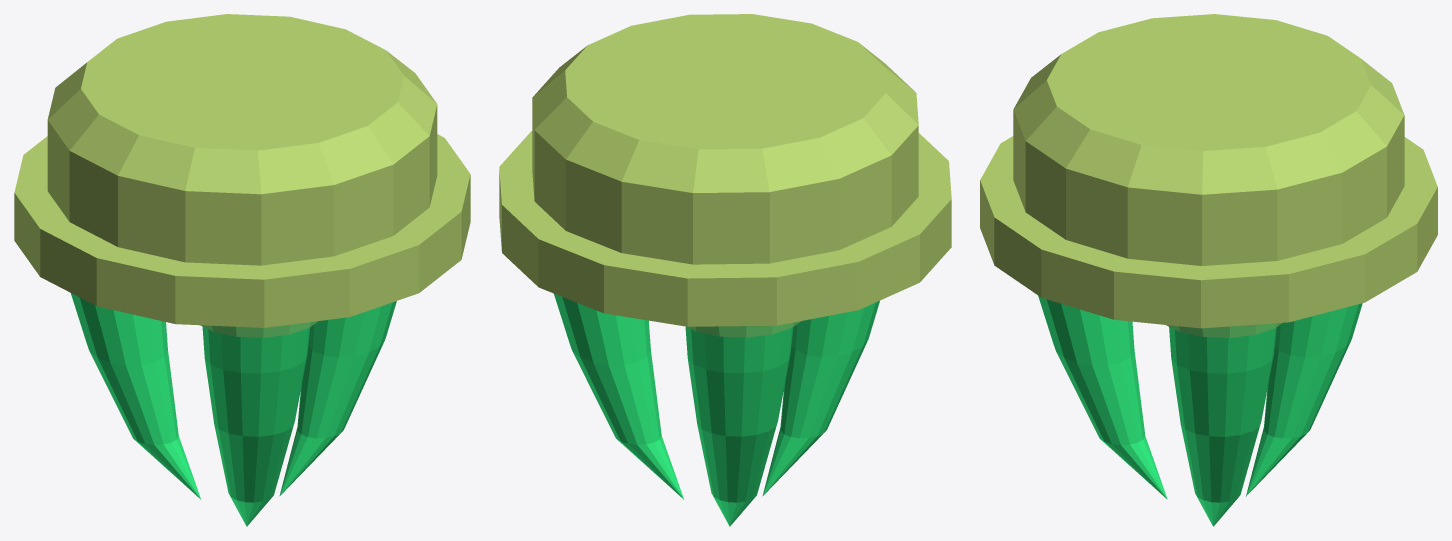
File: ClawHook.fbx
3 views of the same model, side by side, from view 1: azimuth 30°, elevation 25°; view 2: azimuth 150°, elevation 25°; view 3: azimuth 270°, elevation 25° (orthographic).
Parts seen in each view (by area): view 1: ClawHook; view 2: ClawHook; view 3: ClawHook.
Boxes of the visible parts, box(x1,y1,x2,y2) form: ClawHook: box(14, 14, 470, 526); ClawHook: box(499, 14, 951, 526); ClawHook: box(980, 14, 1437, 526).
Bounding box in the file's own units: 69.96 × 71.75 × 69.96.
